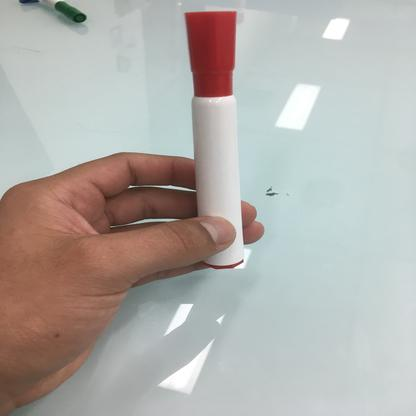expo_marker: (172, 2, 251, 280), (32, 1, 89, 26)
